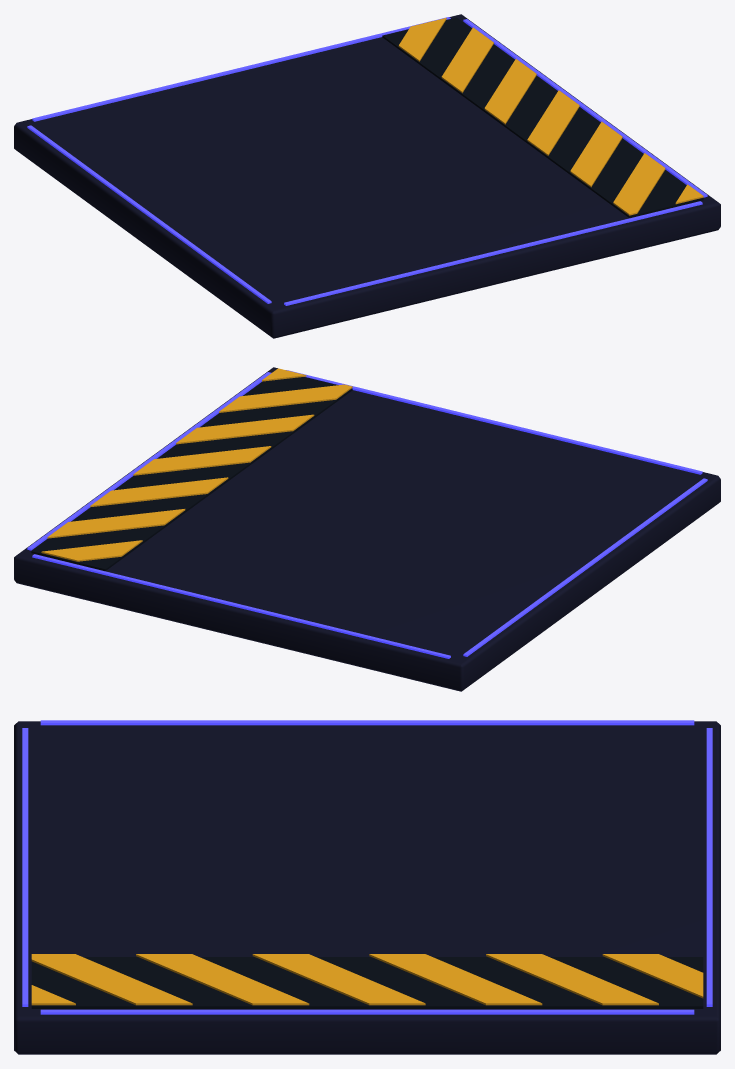
The model's file is NT_Floor_EdgeHazard.fbx.
3 views of the same model, one above another, from view 1: azimuth 30°, elevation 25°; view 2: azimuth 150°, elevation 25°; view 3: azimuth 270°, elevation 25° (orthographic). The views are drawn at different scales.
Visible parts, largest first — view 1: NT_Floor_EdgeHazard__FloorMesh; view 2: NT_Floor_EdgeHazard__FloorMesh; view 3: NT_Floor_EdgeHazard__FloorMesh.
Boxes of the visible parts, x1,y1,x2,y2 form: NT_Floor_EdgeHazard__FloorMesh: (14,14,720,338); NT_Floor_EdgeHazard__FloorMesh: (14,367,720,691); NT_Floor_EdgeHazard__FloorMesh: (14,720,720,1054).
Bounding box in the file's own units: 2 × 0.14 × 2.
